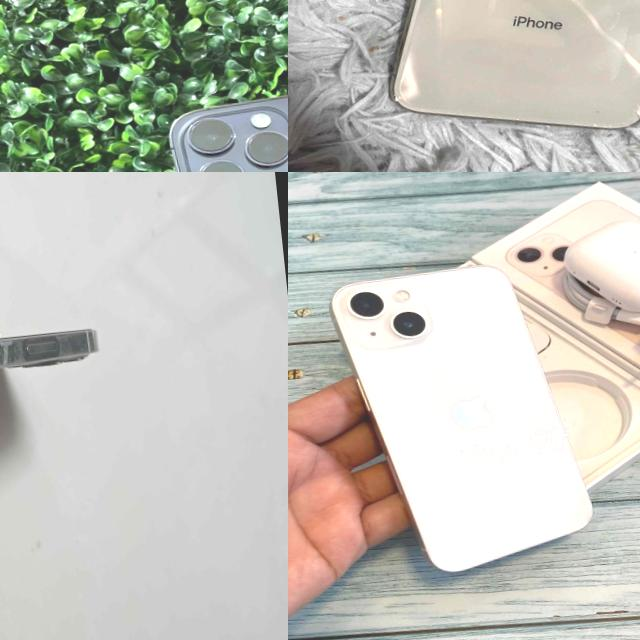scratch: (0, 312, 109, 386), (580, 96, 616, 125)
